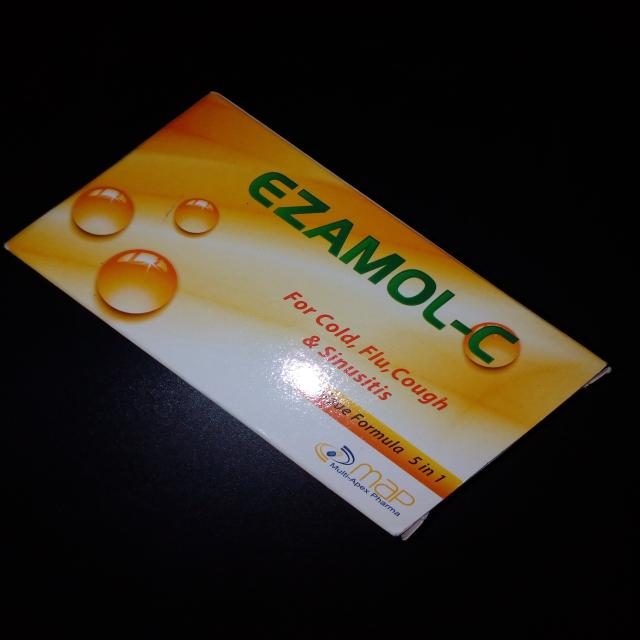Medicine: (6, 84, 616, 546)
